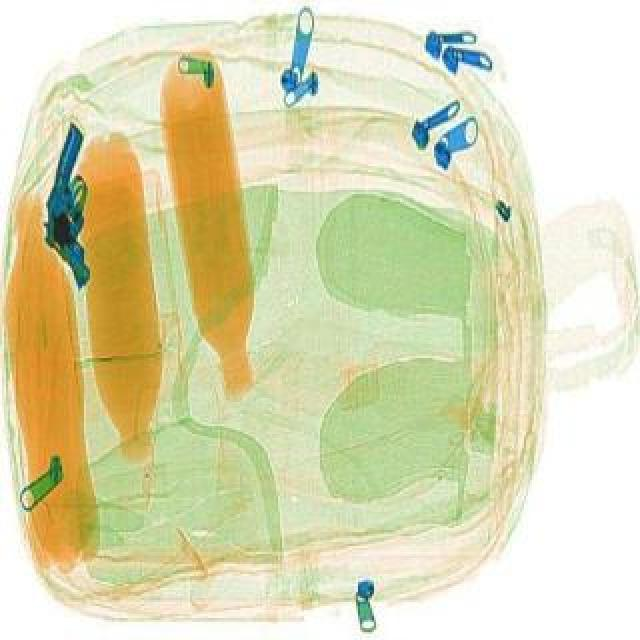gun: (40, 120, 88, 286)
